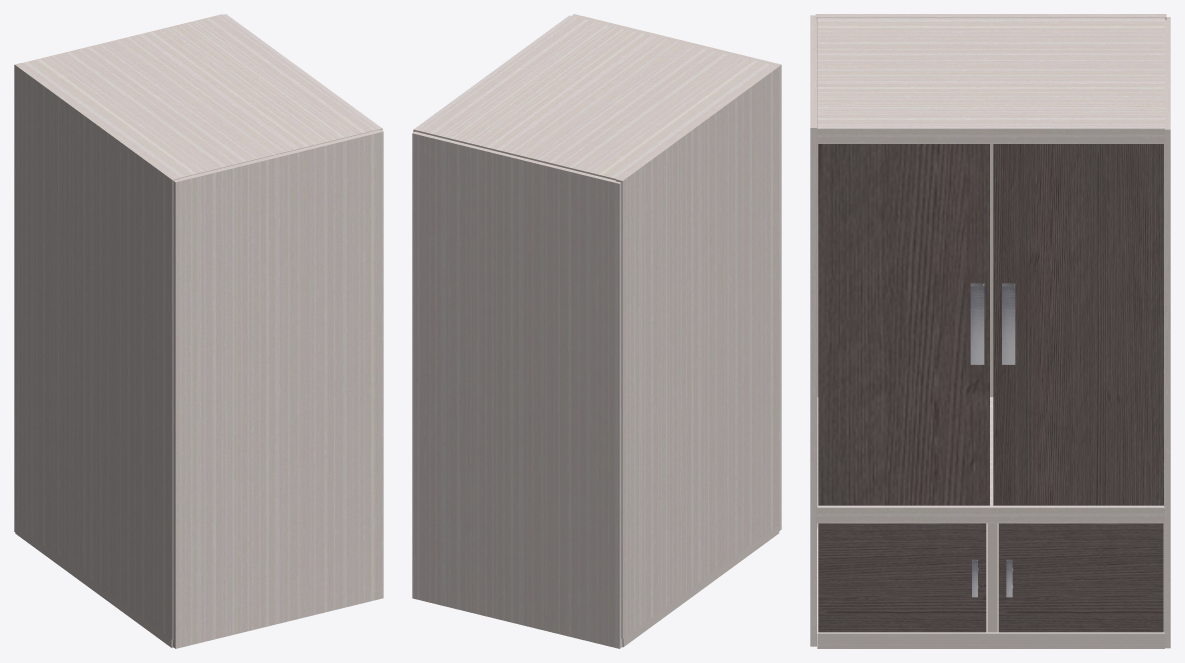
Rendered from wardrobe-2.glb.
The picture shows the model from 3 angles, left to right: view 1: azimuth 30°, elevation 25°; view 2: azimuth 150°, elevation 25°; view 3: azimuth 270°, elevation 25°; orthographic projection. The views are drawn at different scales.
Visible parts, largest first — view 1: Cube.002, Cube, Cube.004, Cube.001, Cube.003; view 2: Cube.003, Cube, Cube.004, Cube.002, Cube.001; view 3: Cube.009, Cube.010, Cube.004, Cube.007, Cube.008, Cube.005, Cube.001, Cube.002, Cube.003, Cube, Cube.012, Cube.006 (+1 smaller).
Boxes of the visible parts, x1,y1,x2,y2 form: Cube.002: (172, 129, 383, 648); Cube: (14, 63, 178, 639); Cube.004: (22, 14, 382, 178); Cube.001: (15, 525, 173, 647); Cube.003: (14, 14, 222, 531); Cube.003: (412, 131, 622, 648); Cube: (616, 64, 780, 639); Cube.004: (413, 15, 771, 180); Cube.002: (572, 14, 781, 530); Cube.001: (622, 525, 779, 647); Cube.009: (818, 144, 989, 505); Cube.010: (993, 144, 1163, 505); Cube.004: (817, 18, 1164, 143); Cube.007: (818, 523, 986, 632); Cube.008: (998, 523, 1163, 632); Cube.005: (817, 397, 1164, 523); Cube.001: (817, 523, 1164, 648); Cube.002: (810, 15, 816, 646); Cube.003: (1164, 17, 1170, 648); Cube: (815, 14, 1166, 528); Cube.012: (970, 283, 984, 364); Cube.006: (987, 523, 997, 632).
Bounding box in the file's own units: 2.06 × 4.25 × 2.66.
Materials: 23 (23 with a texture image).
